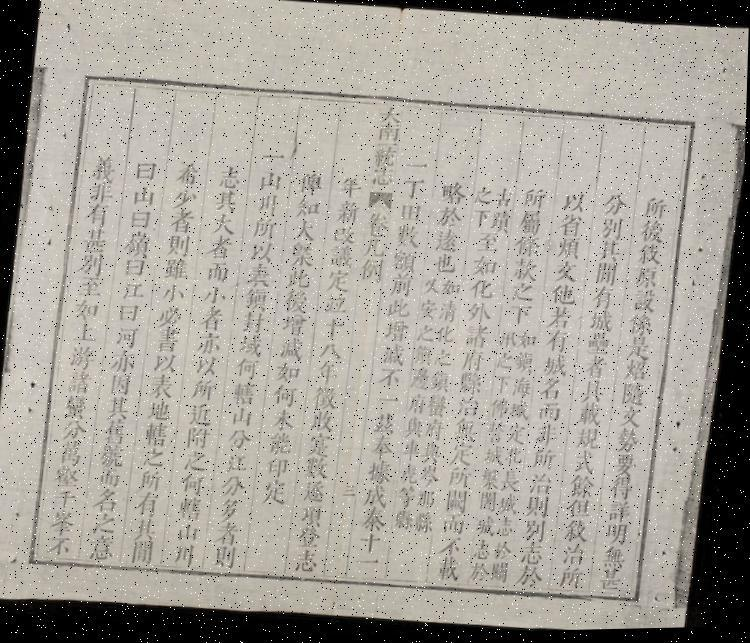c: (88, 152, 120, 183), (122, 228, 154, 258), (148, 371, 179, 400), (213, 544, 244, 573), (50, 507, 81, 536), (624, 335, 656, 363), (62, 392, 94, 420), (562, 518, 594, 546), (88, 534, 120, 562), (262, 478, 294, 506), (394, 223, 424, 252), (154, 325, 184, 354), (102, 418, 133, 446), (65, 368, 96, 396), (57, 438, 88, 466), (463, 324, 494, 352), (367, 458, 398, 486), (80, 226, 111, 254), (68, 342, 99, 370), (360, 506, 391, 534), (197, 304, 228, 332), (176, 495, 208, 522), (282, 288, 314, 315), (98, 442, 130, 469), (568, 474, 600, 501), (173, 159, 202, 188), (245, 262, 275, 290), (94, 486, 124, 514), (288, 241, 318, 269), (206, 234, 236, 262), (144, 420, 174, 448), (296, 170, 326, 198), (312, 384, 342, 412), (134, 490, 164, 518), (614, 428, 644, 456), (620, 382, 650, 410), (431, 228, 462, 255), (610, 476, 641, 503), (632, 266, 664, 292), (558, 566, 590, 592), (604, 522, 636, 548), (72, 296, 104, 322), (306, 431, 336, 458), (458, 372, 488, 399), (268, 431, 298, 458), (231, 380, 261, 407), (110, 347, 140, 374), (438, 180, 468, 207), (557, 213, 587, 240), (572, 450, 602, 477), (104, 393, 134, 420), (303, 455, 334, 481), (622, 359, 653, 385), (638, 220, 669, 246), (511, 258, 542, 284), (542, 354, 573, 380), (278, 336, 309, 362), (195, 330, 226, 356), (641, 196, 672, 222), (179, 471, 210, 497), (187, 401, 218, 427), (184, 425, 215, 451), (516, 565, 548, 590), (470, 255, 502, 280), (554, 238, 586, 263), (173, 542, 201, 570), (365, 212, 392, 241), (630, 289, 660, 315), (256, 168, 286, 194), (302, 478, 332, 504), (612, 454, 642, 480), (82, 202, 112, 228), (214, 520, 244, 546), (129, 183, 159, 209), (130, 538, 160, 564), (390, 250, 420, 276), (552, 260, 582, 286), (514, 234, 544, 260), (534, 423, 564, 449), (272, 383, 302, 409), (168, 208, 198, 234), (528, 472, 558, 498), (574, 427, 604, 453), (190, 378, 220, 404), (602, 546, 632, 572), (296, 524, 326, 550), (132, 516, 162, 542), (598, 216, 628, 242), (294, 196, 324, 222), (525, 495, 555, 521), (162, 256, 192, 282), (221, 472, 251, 498), (239, 309, 269, 335), (577, 403, 607, 429), (383, 320, 413, 346), (242, 286, 272, 312), (588, 310, 618, 336), (86, 180, 117, 205), (435, 205, 466, 230), (237, 333, 268, 358), (60, 416, 91, 441), (54, 463, 85, 488), (607, 500, 638, 525), (280, 313, 311, 338), (76, 252, 108, 276), (70, 320, 102, 344), (518, 211, 546, 238), (602, 192, 630, 219), (521, 542, 550, 568), (453, 418, 482, 444), (437, 557, 466, 583), (520, 186, 549, 212), (295, 548, 324, 574), (449, 442, 478, 468), (388, 274, 417, 300), (215, 164, 244, 190), (580, 381, 610, 406), (92, 511, 122, 536), (560, 191, 590, 216), (544, 331, 574, 356), (380, 343, 410, 368), (274, 360, 304, 385), (204, 259, 234, 284), (628, 313, 658, 338), (309, 410, 339, 435), (164, 233, 194, 258), (234, 356, 264, 381), (76, 274, 107, 298), (561, 544, 592, 568), (334, 200, 362, 226), (328, 244, 356, 270), (373, 411, 401, 437), (218, 497, 246, 523), (539, 378, 567, 404), (599, 569, 628, 594), (547, 307, 576, 332), (364, 484, 393, 509), (586, 333, 615, 358), (212, 189, 241, 214), (131, 158, 160, 183), (593, 263, 622, 288), (590, 287, 619, 312), (314, 361, 344, 385), (636, 244, 666, 268), (596, 240, 626, 264), (522, 520, 552, 544), (474, 232, 504, 256), (118, 278, 148, 302), (466, 302, 496, 326), (468, 279, 498, 303), (182, 449, 212, 473), (138, 468, 168, 492), (567, 498, 597, 522), (156, 304, 186, 328), (508, 282, 538, 306), (285, 267, 315, 291), (550, 284, 580, 308), (46, 534, 78, 556), (584, 357, 612, 382), (325, 270, 354, 294), (460, 350, 489, 374), (532, 449, 561, 473), (300, 504, 329, 528), (270, 408, 299, 432), (377, 366, 406, 390), (227, 427, 256, 451), (291, 218, 320, 242), (201, 283, 231, 306), (152, 351, 182, 374), (174, 521, 204, 544), (170, 187, 200, 210), (97, 465, 127, 488), (159, 282, 190, 304), (400, 177, 428, 201), (266, 456, 294, 480), (448, 466, 476, 490), (337, 176, 365, 200), (358, 532, 386, 556), (108, 372, 136, 396), (320, 316, 348, 340), (508, 304, 536, 328), (252, 217, 280, 241), (456, 396, 484, 420), (114, 324, 142, 348), (210, 212, 238, 236), (193, 355, 222, 378), (224, 451, 253, 474), (442, 515, 471, 538), (322, 293, 351, 316), (536, 402, 566, 424), (427, 394, 452, 420), (446, 490, 472, 515), (371, 436, 398, 460), (255, 192, 282, 216), (248, 241, 276, 264), (142, 446, 170, 469), (128, 207, 156, 230), (431, 254, 460, 276), (618, 408, 647, 430), (53, 487, 82, 509), (146, 400, 175, 422), (481, 468, 506, 493), (488, 210, 514, 234), (475, 515, 501, 539), (369, 166, 396, 189), (117, 301, 144, 324), (230, 406, 258, 428), (122, 256, 150, 278), (318, 340, 346, 362), (386, 298, 414, 320), (396, 485, 420, 510), (422, 442, 447, 466), (438, 300, 462, 325), (486, 421, 510, 446), (399, 463, 424, 487), (483, 445, 509, 468), (371, 146, 398, 168), (332, 224, 359, 246), (499, 494, 523, 518), (511, 376, 535, 400), (430, 371, 454, 395), (415, 511, 439, 535), (491, 562, 515, 586), (420, 465, 444, 489), (470, 562, 495, 585), (398, 202, 424, 224), (362, 238, 388, 260), (440, 537, 467, 558), (394, 509, 418, 532), (424, 419, 448, 442), (515, 352, 538, 376), (490, 397, 513, 421), (418, 299, 441, 323), (478, 492, 502, 515), (497, 516, 520, 540), (473, 539, 496, 563), (404, 416, 427, 440), (493, 188, 516, 211), (507, 424, 530, 447), (411, 368, 433, 392), (502, 470, 524, 494), (434, 348, 458, 370), (493, 540, 517, 562), (492, 374, 514, 398), (510, 400, 534, 422), (414, 345, 436, 369), (356, 556, 385, 574), (375, 392, 404, 410), (409, 394, 432, 416), (505, 447, 528, 469), (495, 352, 518, 374), (403, 440, 426, 462), (360, 260, 383, 282), (375, 125, 400, 145), (378, 106, 403, 126), (473, 186, 495, 208), (416, 324, 438, 346), (417, 490, 440, 511), (441, 278, 464, 299), (260, 149, 288, 166), (436, 325, 458, 346), (518, 331, 540, 352), (472, 208, 493, 230), (404, 159, 430, 175), (500, 331, 520, 351), (424, 278, 443, 298), (342, 482, 360, 500), (376, 142, 398, 148)
